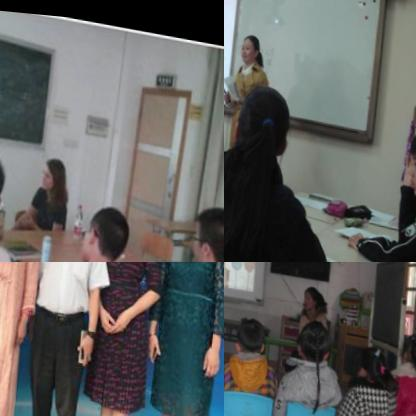head: (230, 74, 295, 158), (75, 191, 131, 262), (188, 193, 224, 262), (297, 313, 334, 364), (357, 335, 393, 384), (233, 312, 270, 358), (39, 150, 69, 192), (237, 26, 264, 61), (405, 118, 416, 192), (301, 277, 324, 309), (401, 321, 416, 366)
